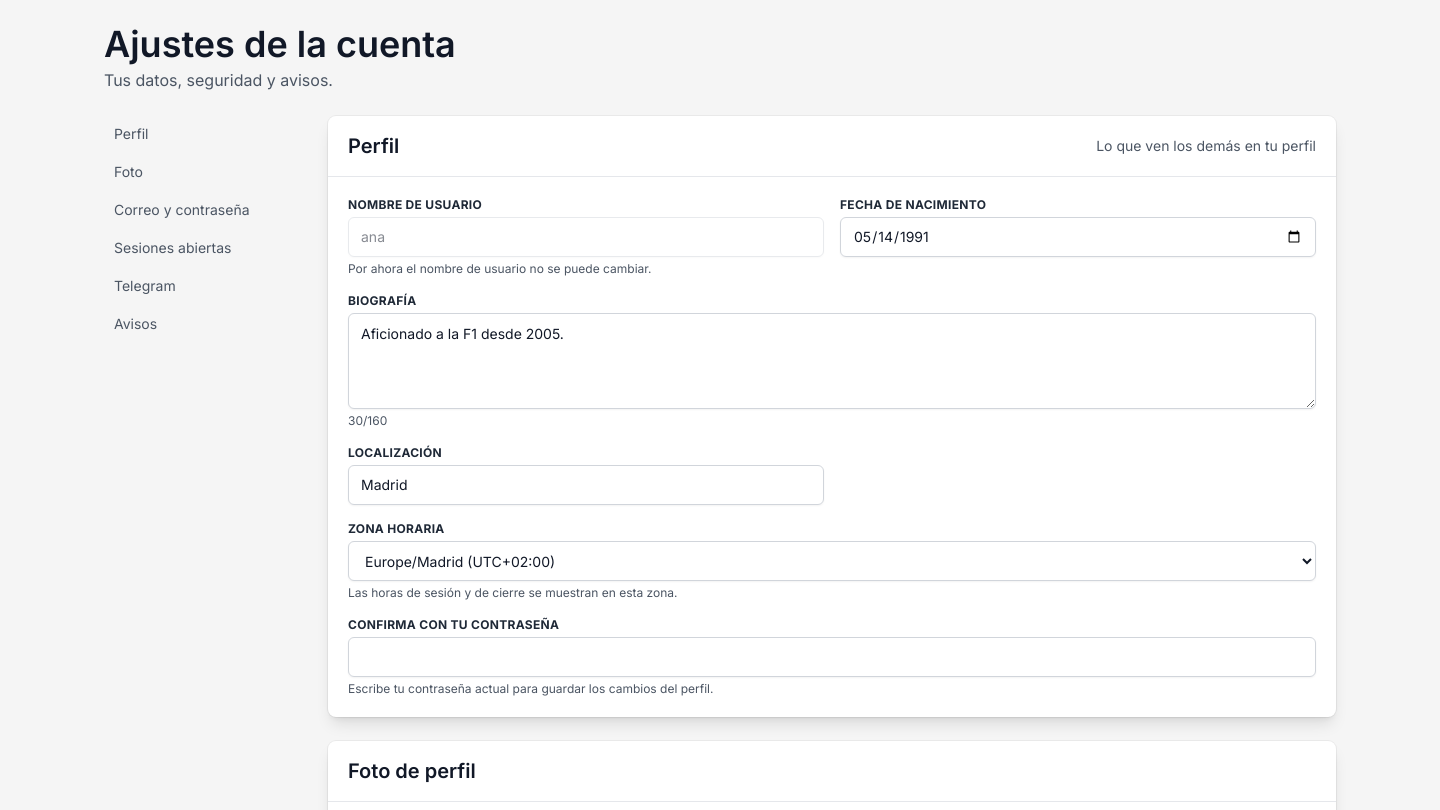
Test: Account settings (U3) › shows a wrong password under the field and keeps the changes
The width and height of the screenshot is (1440, 810).
Replace the text in the field labelled "Localización" with "Sevilla" at (586, 485), box [348, 465, 824, 505]
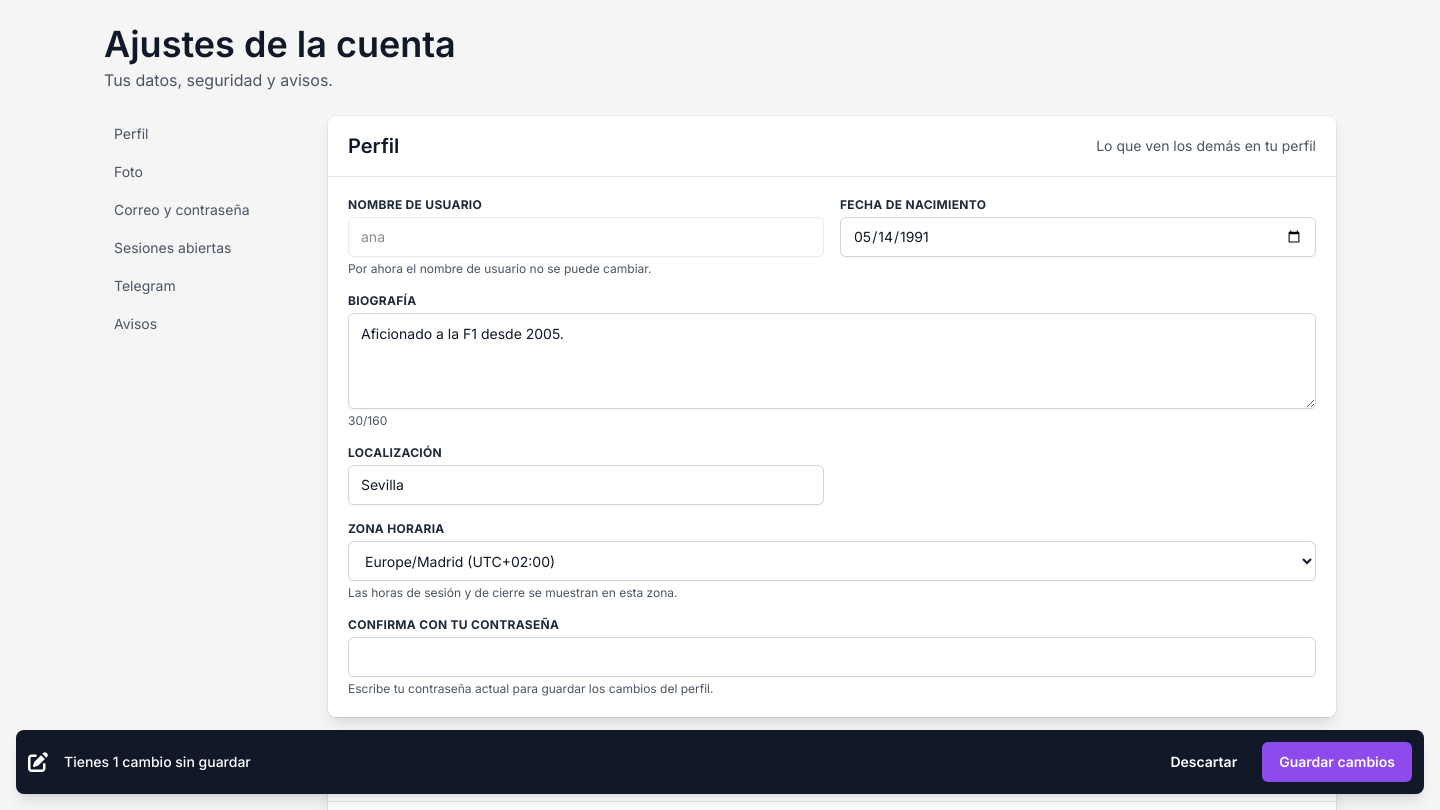
Type "mala-clave" into the password field labelled "Confirma con tu contraseña".
click(832, 657); type("mala-clave")  # box [348, 637, 1316, 677]
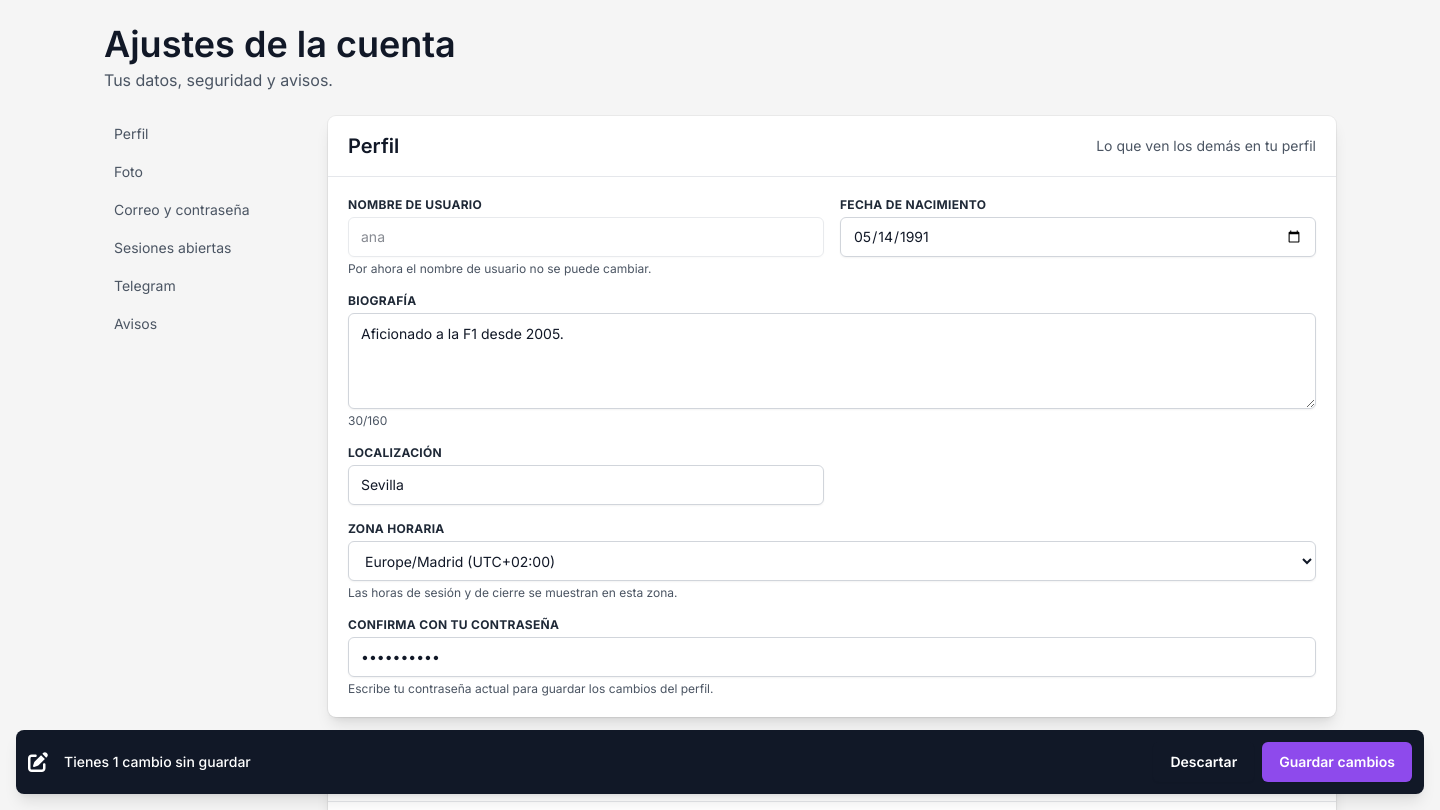
Click the button "Guardar cambios".
click(1337, 762)  # box [1262, 742, 1412, 782]
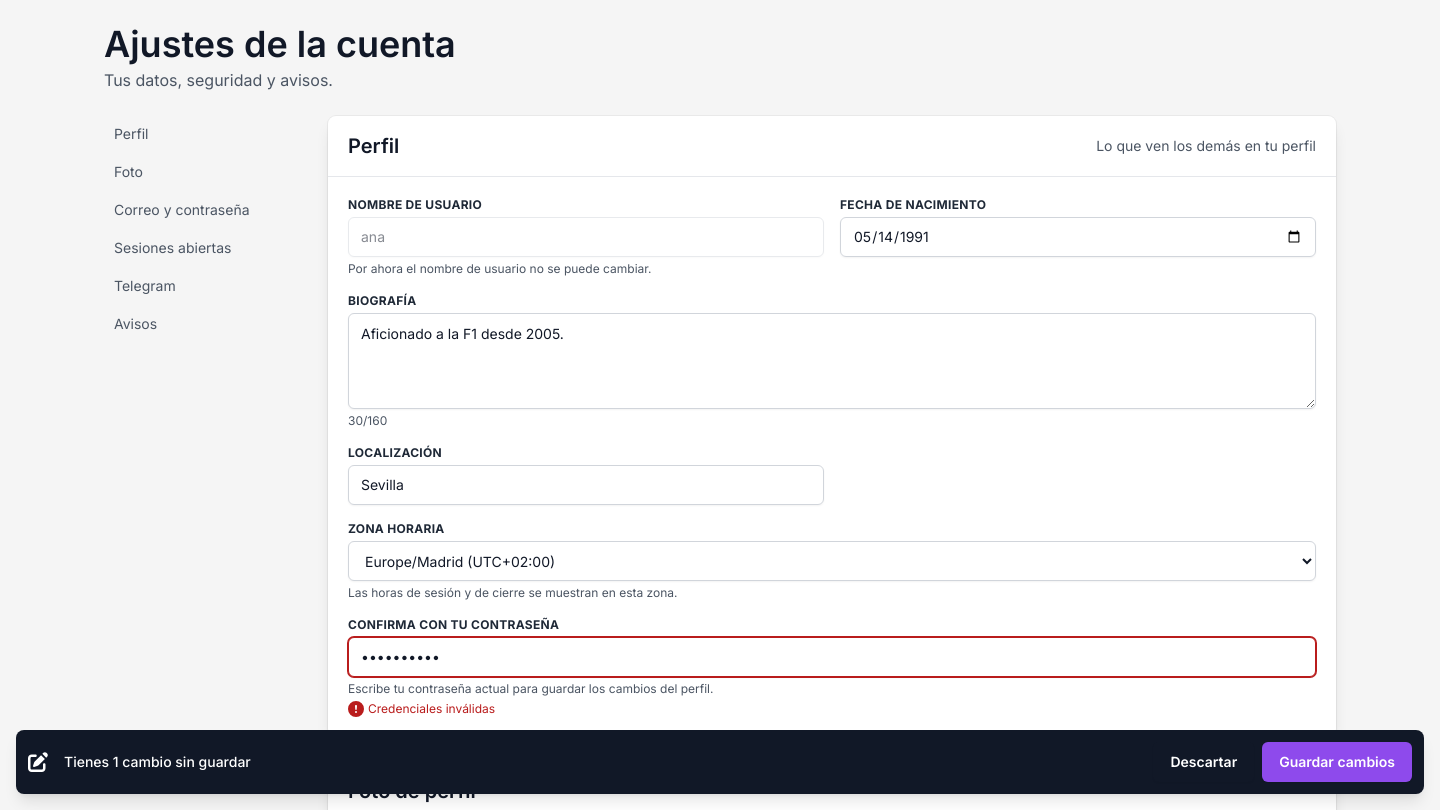
Check: the element named "Cambios sin guardar" is shown, box [16, 730, 1424, 794]
Check: the text "Credenciales inválidas" is shown, box [368, 701, 495, 717]
